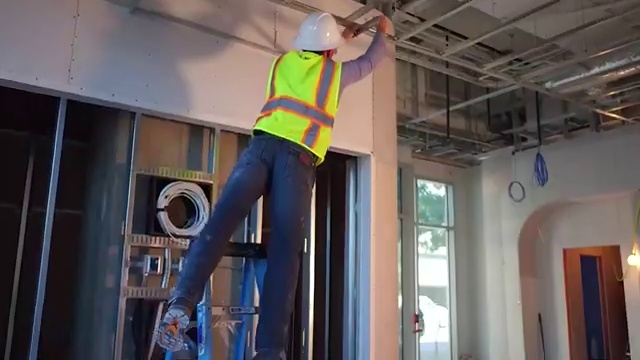helmet: (285, 14, 356, 45)
jacket: (258, 51, 341, 175)
